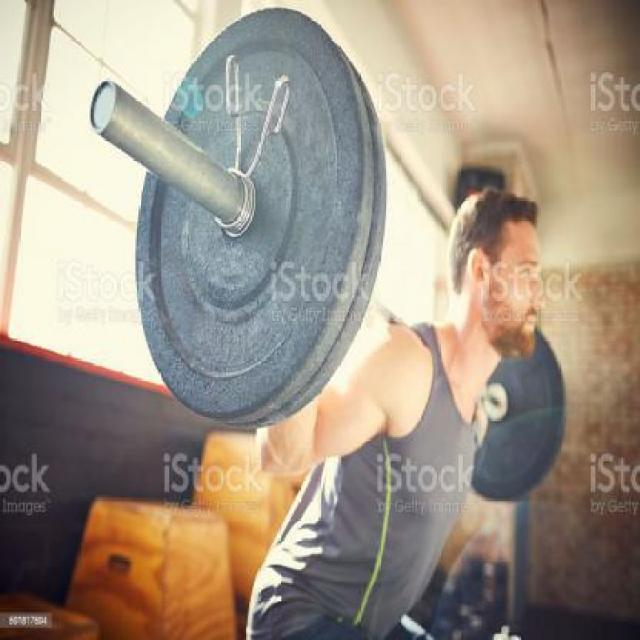Barbell: (80, 73, 129, 149)
